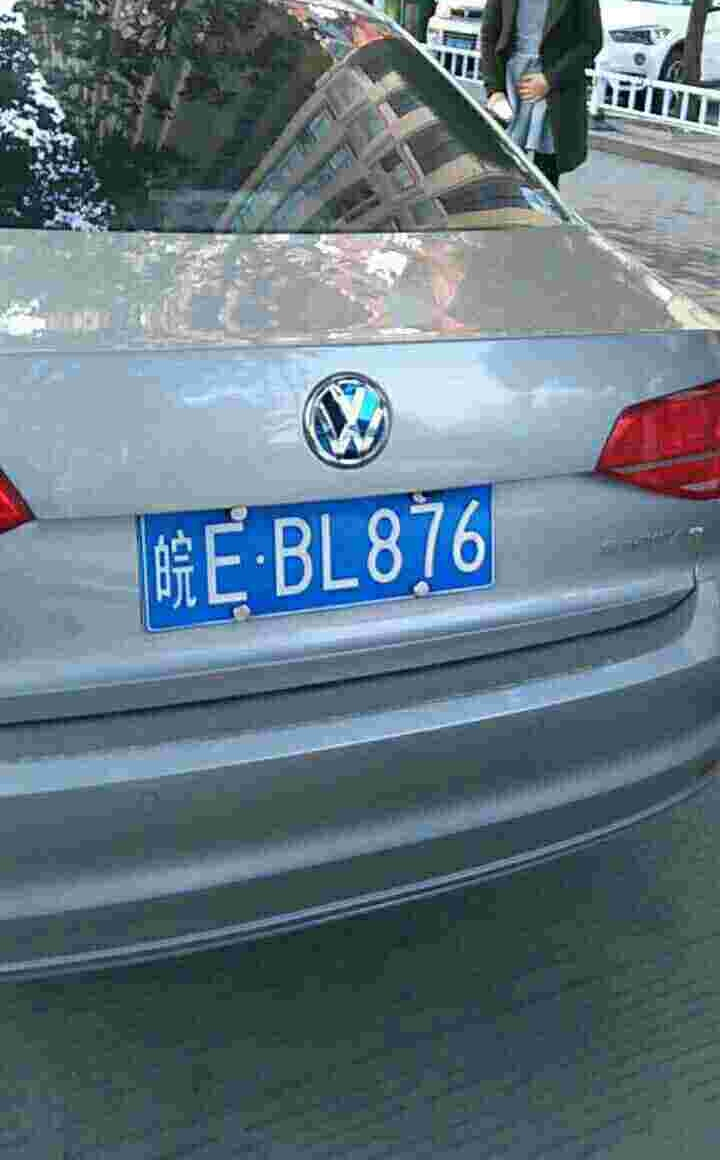license_plate: (149, 478, 499, 634)
